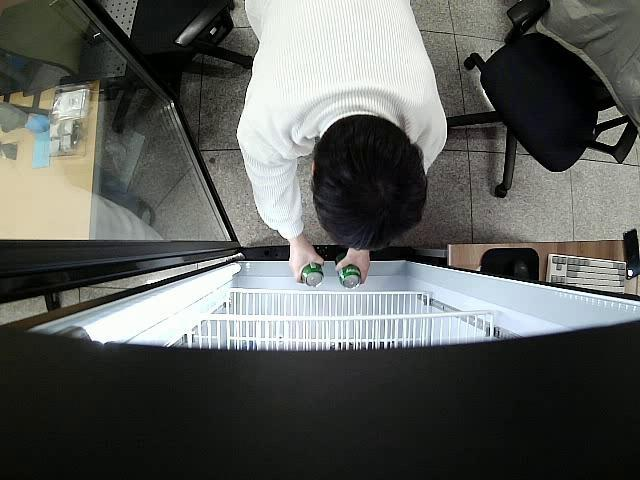12_chilsungCider: (338, 255, 360, 288), (300, 264, 324, 287)
